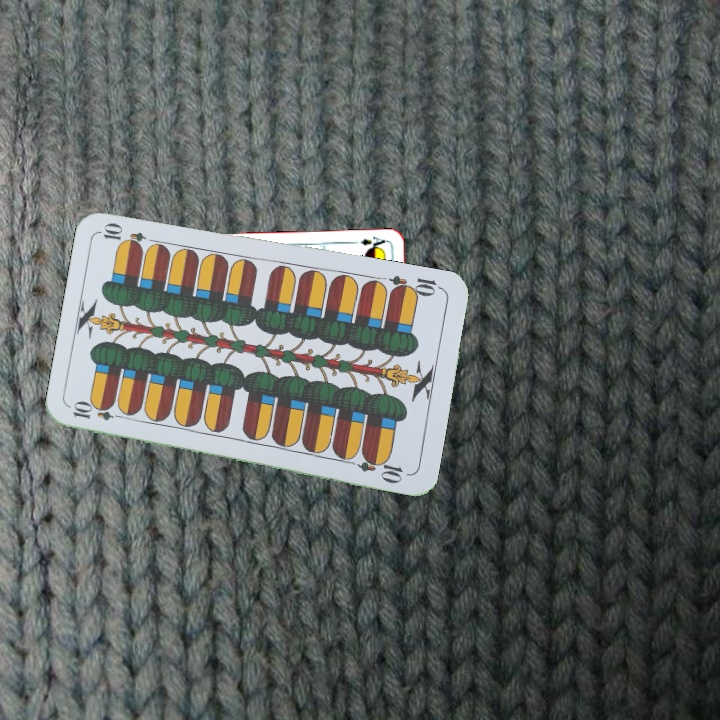E10: (386, 271, 445, 300), (69, 401, 128, 424)
EA: (347, 233, 388, 252)
